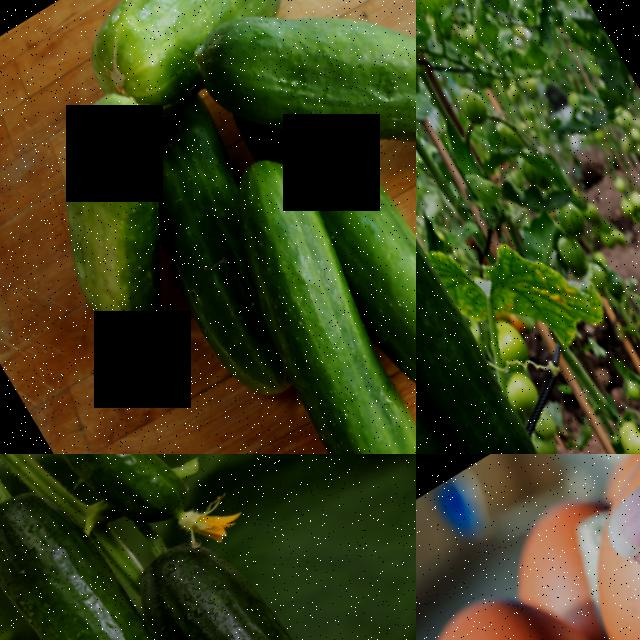cucumber: (171, 135, 416, 454), (0, 81, 240, 368), (416, 74, 576, 454), (0, 462, 242, 640), (182, 0, 416, 183), (286, 120, 416, 436), (121, 504, 416, 640), (303, 0, 416, 213), (72, 0, 302, 101), (16, 454, 202, 563), (416, 312, 496, 454)
egg_: (416, 559, 633, 640)
